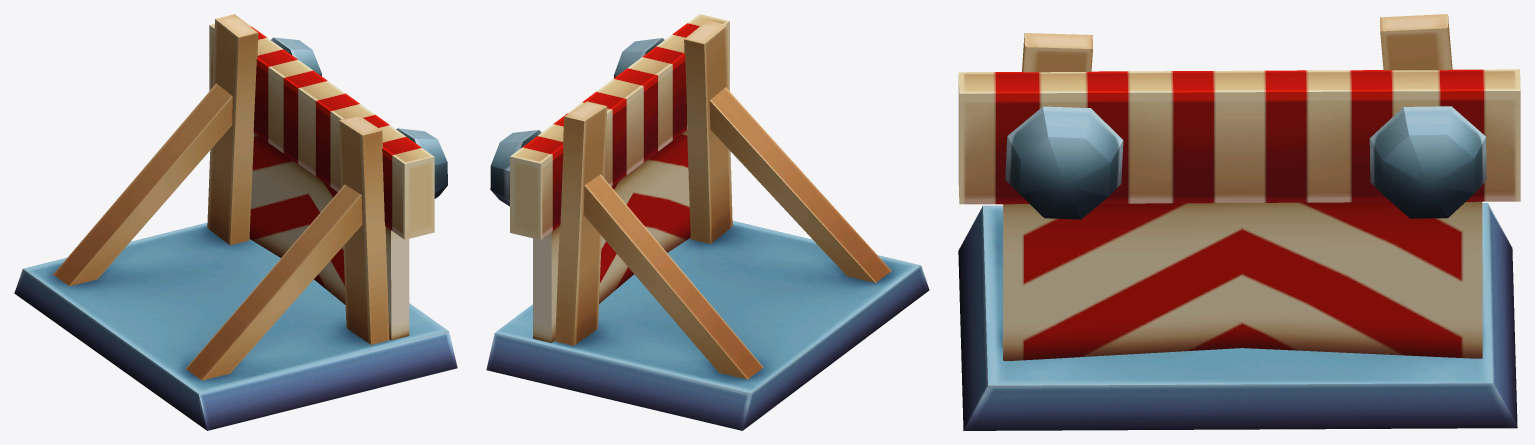
The model's file is short_obstacle.glb.
3 views of the same model, side by side, from view 1: azimuth 30°, elevation 25°; view 2: azimuth 150°, elevation 25°; view 3: azimuth 270°, elevation 25° (orthographic). The views are drawn at different scales.
Parts seen in each view (by area): view 1: Object_10; view 2: Object_10; view 3: Object_10.
Part boxes in pixels (x1=…): Object_10: x1=14, y1=14, x2=457, y2=430; Object_10: x1=486, y1=14, x2=929, y2=430; Object_10: x1=958, y1=14, x2=1520, y2=430.
Size of the model in its own units: 3.5 by 2.98 by 4.2.
1 material, 1 textured.
